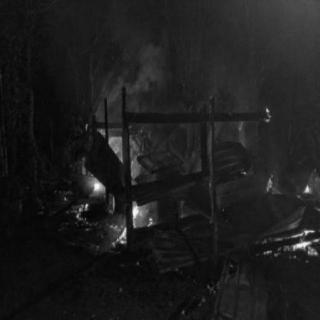Fire: (261, 104, 275, 120)
